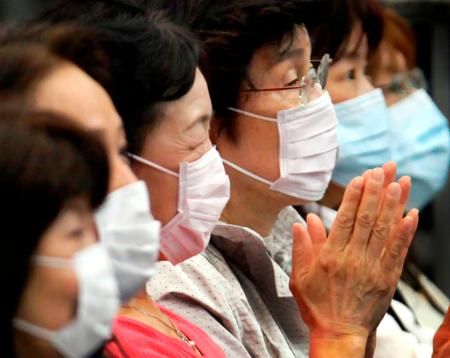mask: (261, 91, 338, 206), (159, 148, 229, 268)
